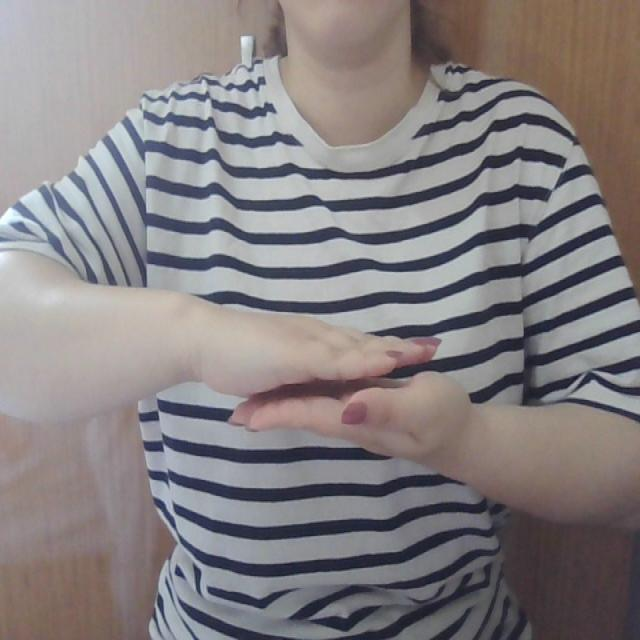Arkadas: (186, 299, 513, 461)
